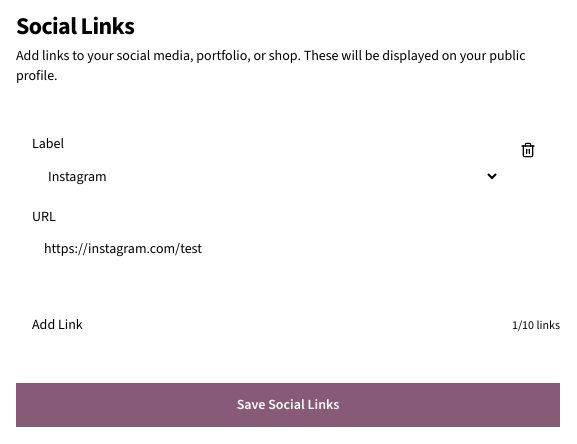
Test case: SocialLinksForm › removing links › removes a link when remove button is clicked
What coordinates should you click on to do the following:
click the button named "Remove Instagram"
I would click on:
 (528, 150)
Its box is [512,134,544,166].
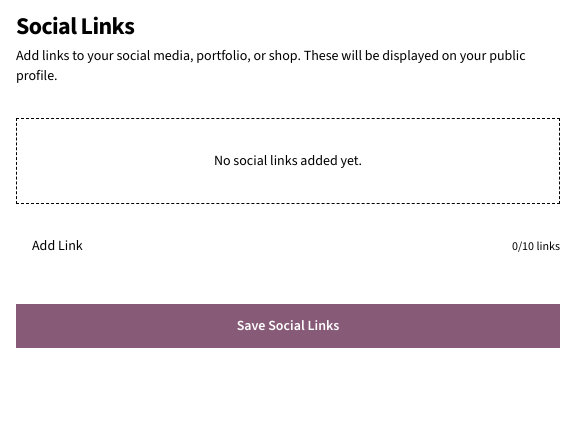
Check: the text "No social links added yet." is shown, box [214,151,362,170]
